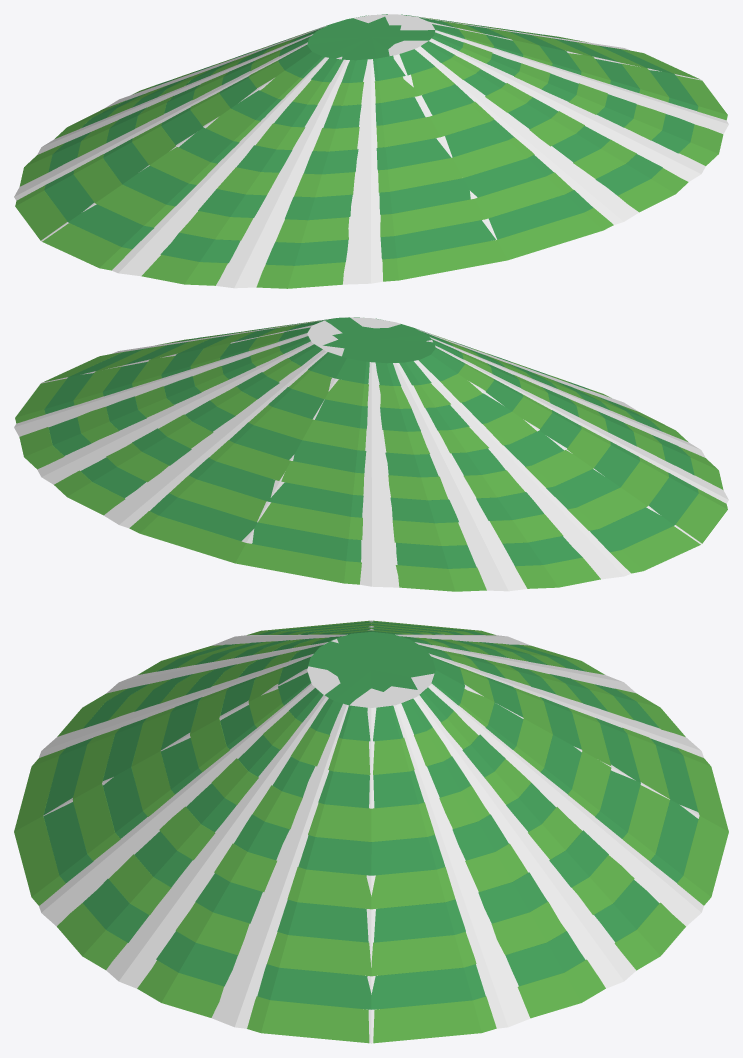
Rendered from env_hill_a.glb.
3 renders of one model, top to bottom at view 1: azimuth 30°, elevation 25°; view 2: azimuth 150°, elevation 25°; view 3: azimuth 270°, elevation 25°, orthographic. The views are drawn at different scales.
Parts seen in each view (by area): view 1: env_hill_a, COL_env_hill_a_1; view 2: env_hill_a, COL_env_hill_a_1; view 3: env_hill_a, COL_env_hill_a_1.
Boxes of the visible parts, x1,y1,x2,y2 form: env_hill_a: [15, 14, 727, 288]; COL_env_hill_a_1: [14, 14, 728, 288]; env_hill_a: [15, 317, 727, 591]; COL_env_hill_a_1: [14, 317, 728, 591]; env_hill_a: [14, 620, 728, 1043]; COL_env_hill_a_1: [39, 620, 703, 1043].
Bounding box in the file's own units: 14 × 2.62 × 10.
